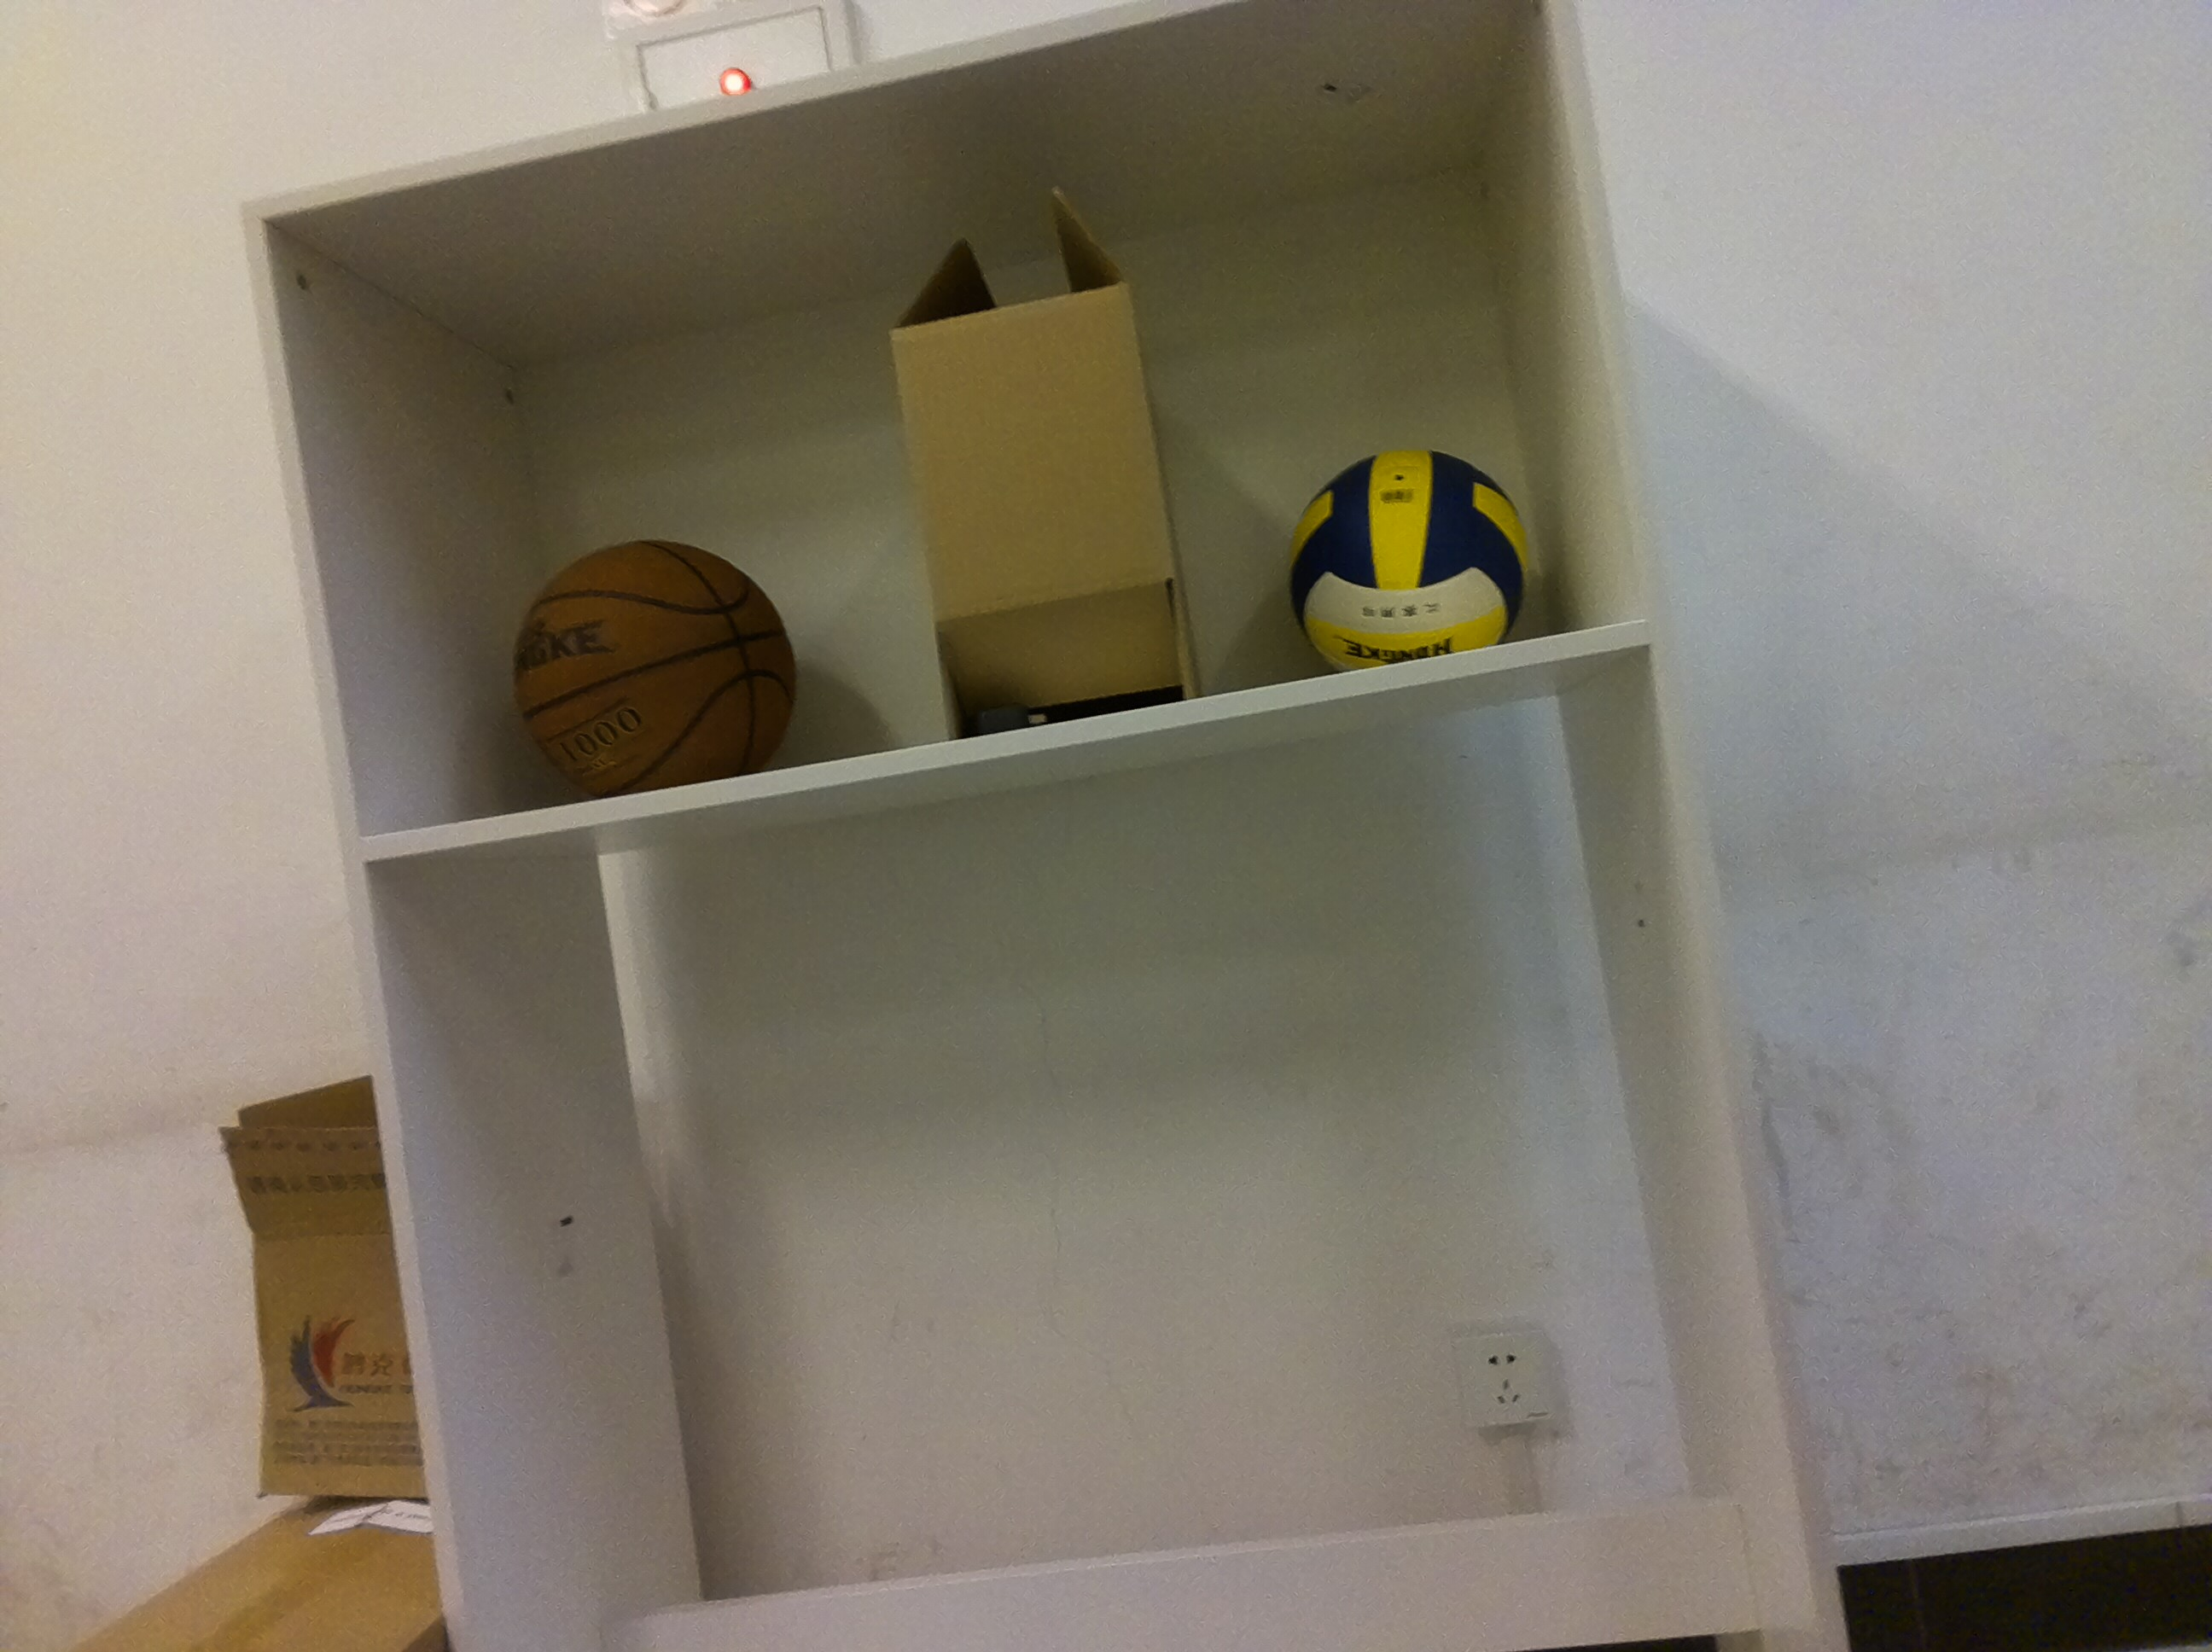basketball: (493, 524, 805, 807)
volleyball: (1287, 437, 1544, 684)
